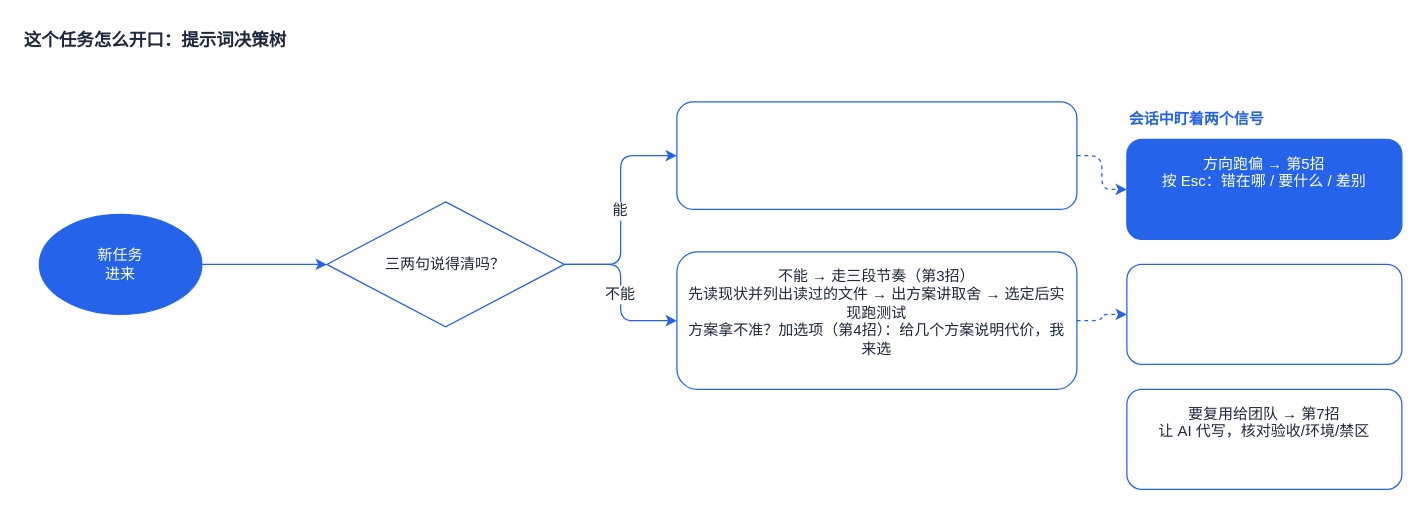
Some shapes in this 1424 by 511 pixel diagram are drawn without their labels. Here are the shapes that lost their labels. From the top down, the centre of each, then its label:
point 876,155: 能 → 直接执行 提示词=目标+验收（第1招）+具体上下文（第2招） 一条收工
point 1264,313: 纠正说到第三次 → 第6招 「记住」写进 CLAUDE.md
